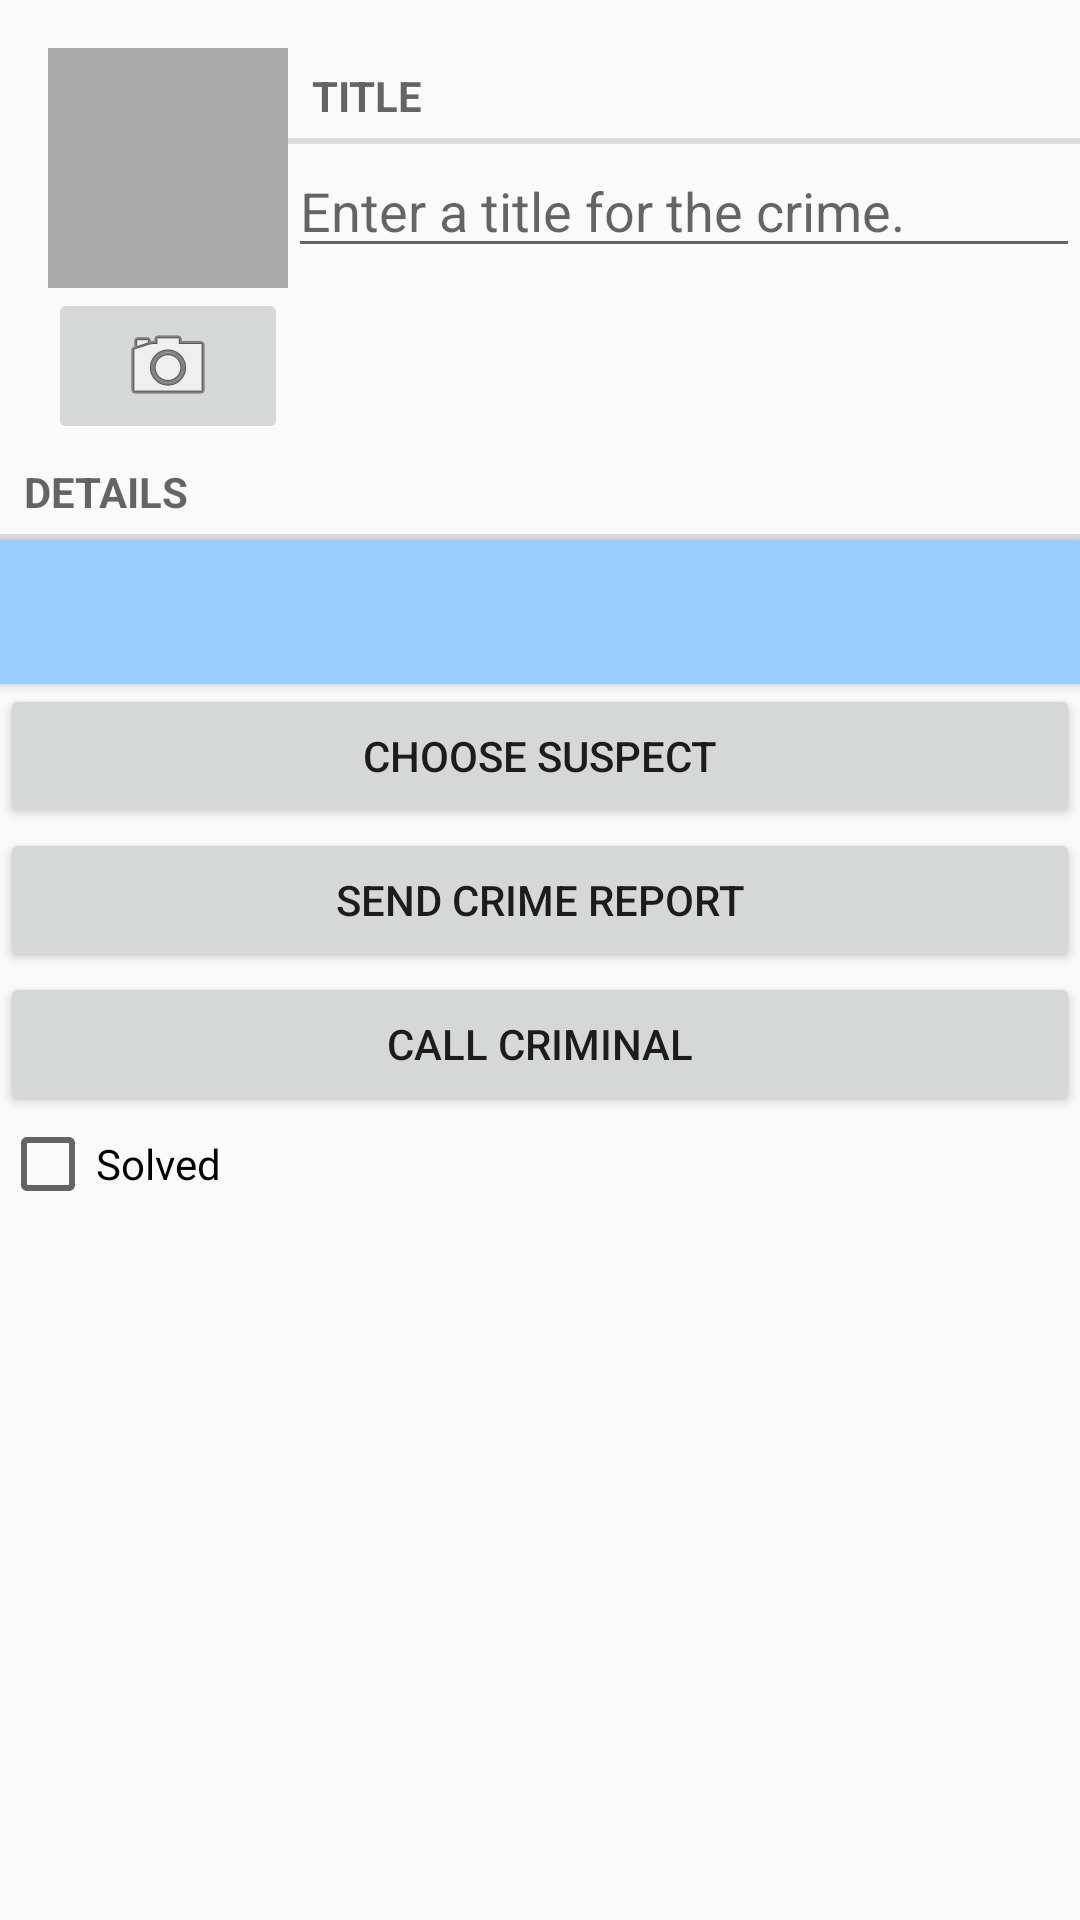

Where to tap for icons on this 1080×1920 app screen, as [x,y]:
camera: [168,366]
